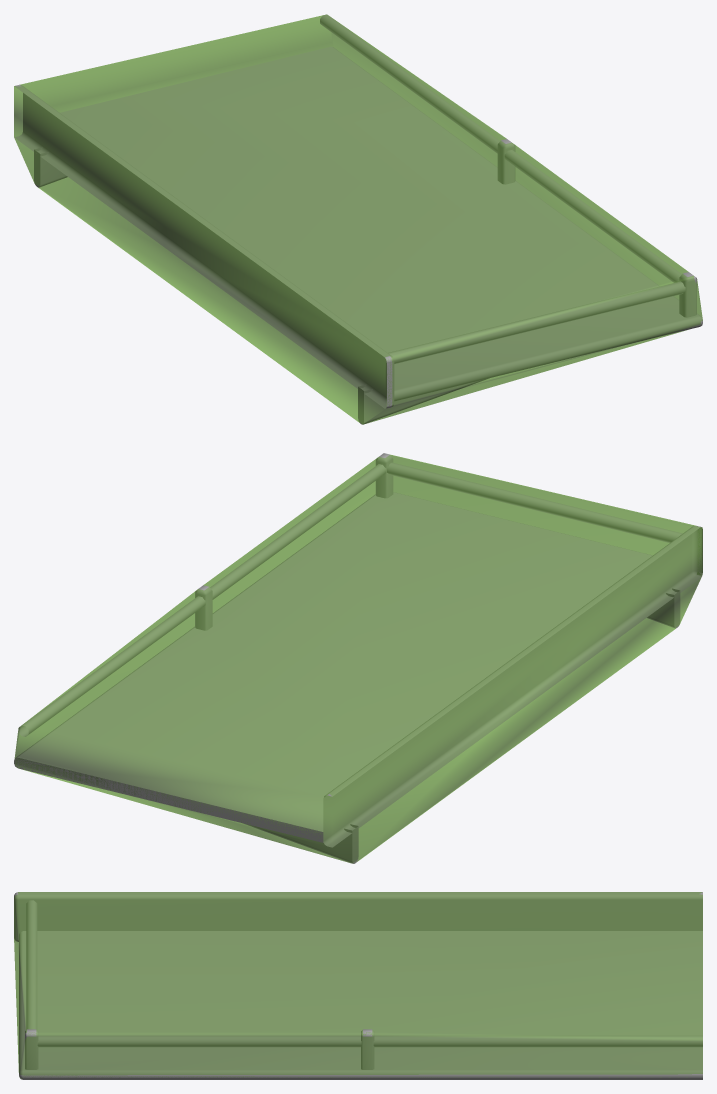
File: M_md_MetalShelve_end_01.fbx
The picture shows the model from 3 angles, top to bottom: view 1: azimuth 30°, elevation 25°; view 2: azimuth 150°, elevation 25°; view 3: azimuth 270°, elevation 25°; orthographic projection. The views are drawn at different scales.
Parts seen in each view (by area): view 1: M_md_MetalShelve_end_01_col_01, M_md_MetalShelve_end_01_LOD0; view 2: M_md_MetalShelve_end_01_col_01, M_md_MetalShelve_end_01_LOD0; view 3: M_md_MetalShelve_end_01_LOD0, M_md_MetalShelve_end_01_col_01.
Part boxes in pixels (box(x1,y1,x2,y2)): M_md_MetalShelve_end_01_col_01: box(14, 14, 702, 424); M_md_MetalShelve_end_01_LOD0: box(14, 14, 702, 424); M_md_MetalShelve_end_01_col_01: box(14, 454, 702, 863); M_md_MetalShelve_end_01_LOD0: box(14, 453, 702, 863); M_md_MetalShelve_end_01_LOD0: box(14, 892, 702, 1079); M_md_MetalShelve_end_01_col_01: box(14, 892, 702, 1078).
Size of what is drawn, in the model's own units: 50 by 12.73 by 101.
